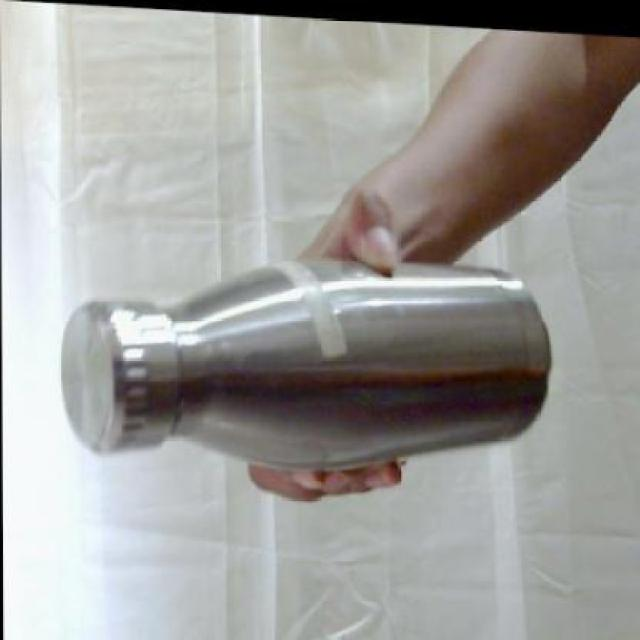Metal: (53, 254, 558, 477)
